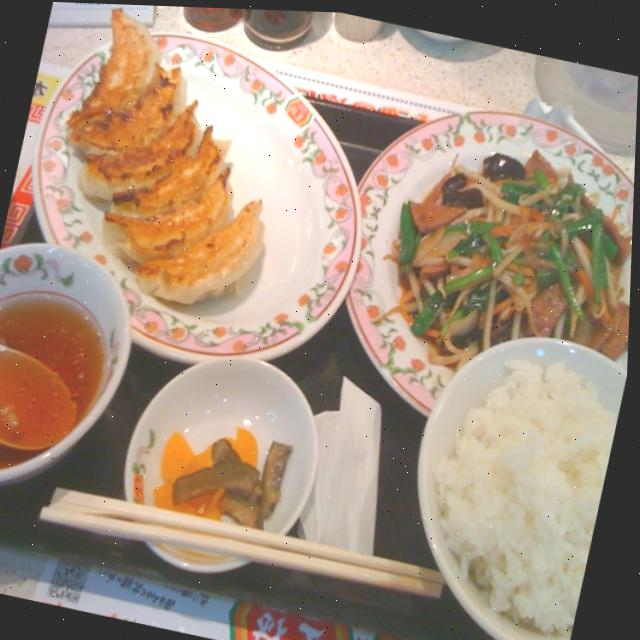带馅早点: (27, 1, 313, 327)
牛肉菜式: (354, 106, 637, 392)
米饭主食: (380, 296, 632, 640)
